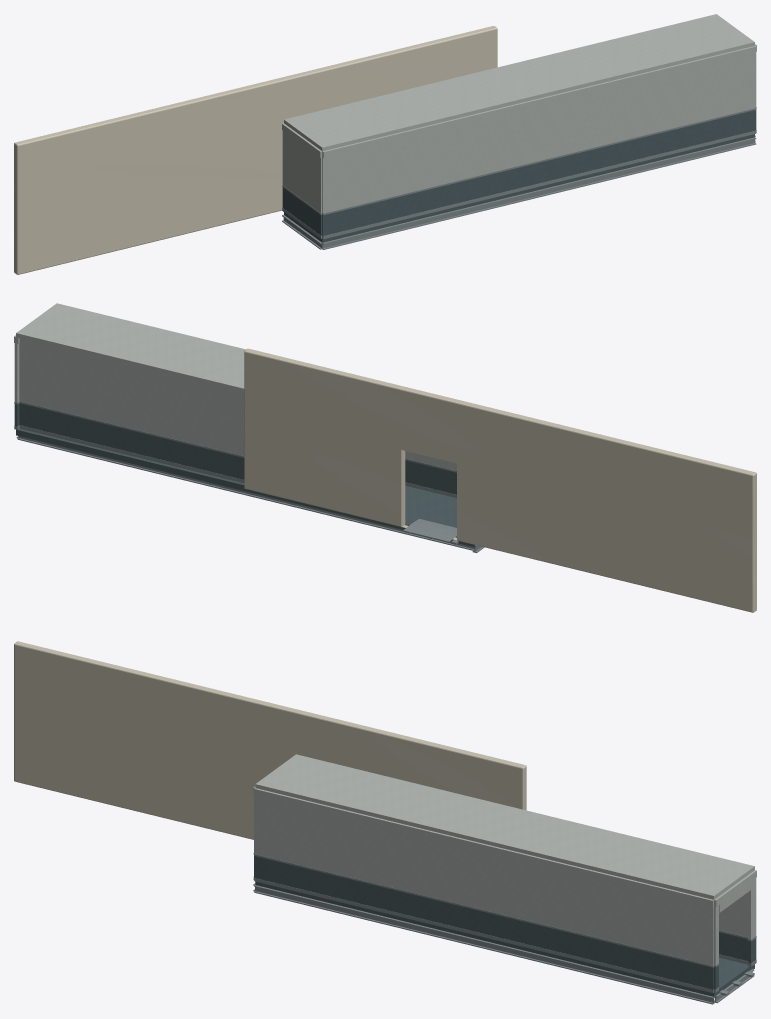
The model's file is FRESH_REEXPORT.glb.
The picture shows the model from 3 angles, top to bottom: view 1: azimuth 30°, elevation 25°; view 2: azimuth 150°, elevation 25°; view 3: azimuth 330°, elevation 25°; orthographic projection. The views are drawn at different scales.
Parts seen in each view (by area): view 1: MRS_BATCH_001, MRS_SUCCESSOR_D11_directory_08__outer_return_6, MRS_BATCH_000, MRS_BATCH_002; view 2: MRS_SUCCESSOR_D11_directory_08__outer_return_6, MRS_BATCH_001, MRS_BATCH_000, MRS_BATCH_002; view 3: MRS_BATCH_001, MRS_SUCCESSOR_D11_directory_08__outer_return_6, MRS_BATCH_000, MRS_BATCH_002.
Boxes of the visible parts, x1,y1,x2,y2 form: MRS_BATCH_001: (282,14,756,213); MRS_SUCCESSOR_D11_directory_08__outer_return_6: (14,26,497,274); MRS_BATCH_000: (282,109,756,242); MRS_BATCH_002: (282,107,756,249); MRS_SUCCESSOR_D11_directory_08__outer_return_6: (244,348,756,612); MRS_BATCH_001: (14,303,456,470); MRS_BATCH_000: (14,403,475,546); MRS_BATCH_002: (14,401,484,552); MRS_BATCH_001: (253,754,756,965); MRS_SUCCESSOR_D11_directory_08__outer_return_6: (14,641,526,839); MRS_BATCH_000: (254,855,756,997); MRS_BATCH_002: (253,853,756,1004).
Size of the model in its own units: 32.3 by 6.16 by 3.64.
Materials: 5 (4 with a texture image).
